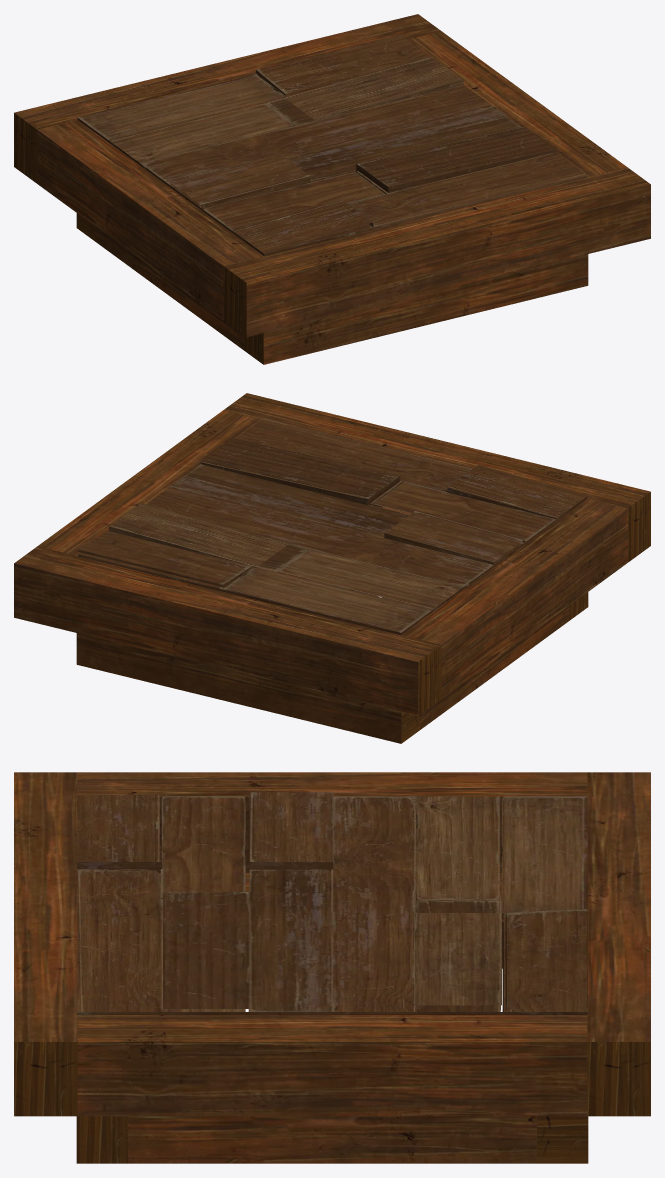
3 renders of one model, top to bottom at view 1: azimuth 30°, elevation 25°; view 2: azimuth 150°, elevation 25°; view 3: azimuth 270°, elevation 25°, orthographic. The views are drawn at different scales.
Parts seen in each view (by area): view 1: SM_BB_T2_Floor_Med_LOD0; view 2: SM_BB_T2_Floor_Med_LOD0; view 3: SM_BB_T2_Floor_Med_LOD0.
Part boxes in pixels (box(x1,y1,x2,y2)): SM_BB_T2_Floor_Med_LOD0: box(14, 14, 650, 364); SM_BB_T2_Floor_Med_LOD0: box(14, 393, 650, 743); SM_BB_T2_Floor_Med_LOD0: box(14, 772, 650, 1163).
Size of the model in its own units: 1.88 by 0.5167 by 1.87.
2 materials, 2 textured.
